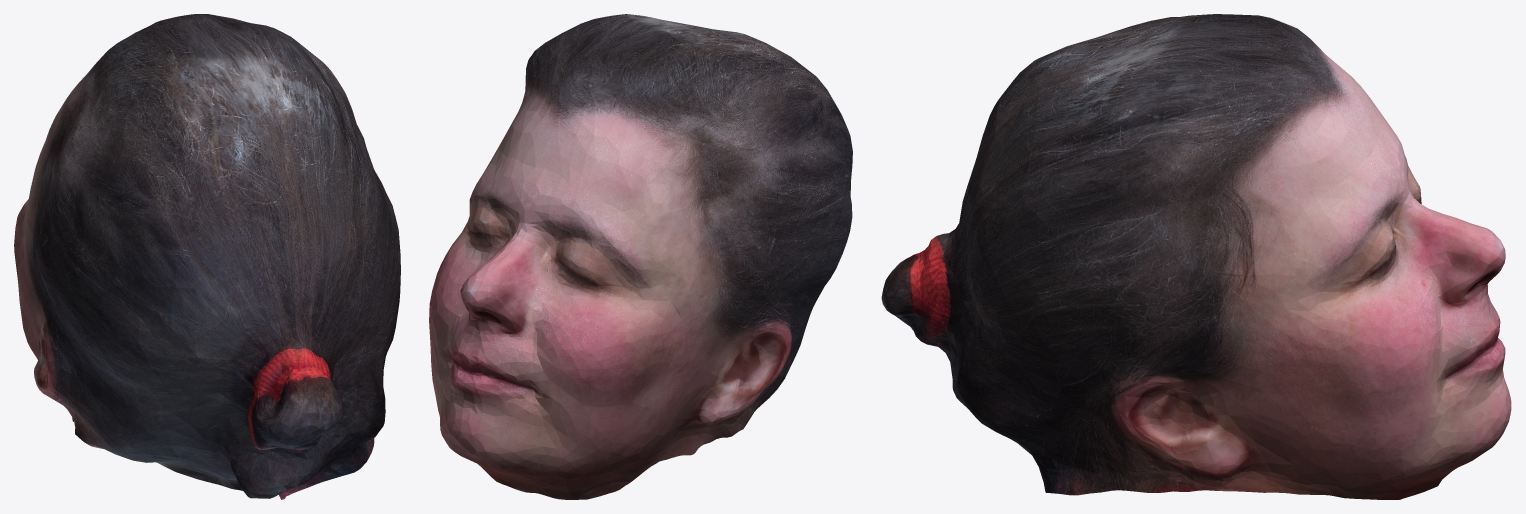
File: BUSTO_5.obj
3 renders of one model, left to right at view 1: azimuth 30°, elevation 25°; view 2: azimuth 150°, elevation 25°; view 3: azimuth 270°, elevation 25°, orthographic. The views are drawn at different scales.
Parts seen in each view (by area): view 1: BUSTO_5; view 2: BUSTO_5; view 3: BUSTO_5.
Boxes of the visible parts, box(x1,y1,x2,y2) form: BUSTO_5: box(14, 14, 400, 499); BUSTO_5: box(429, 14, 852, 499); BUSTO_5: box(881, 14, 1511, 499).
Size of the model in its own units: 3.35 by 4.17 by 5.36.
1 material, 1 textured.
